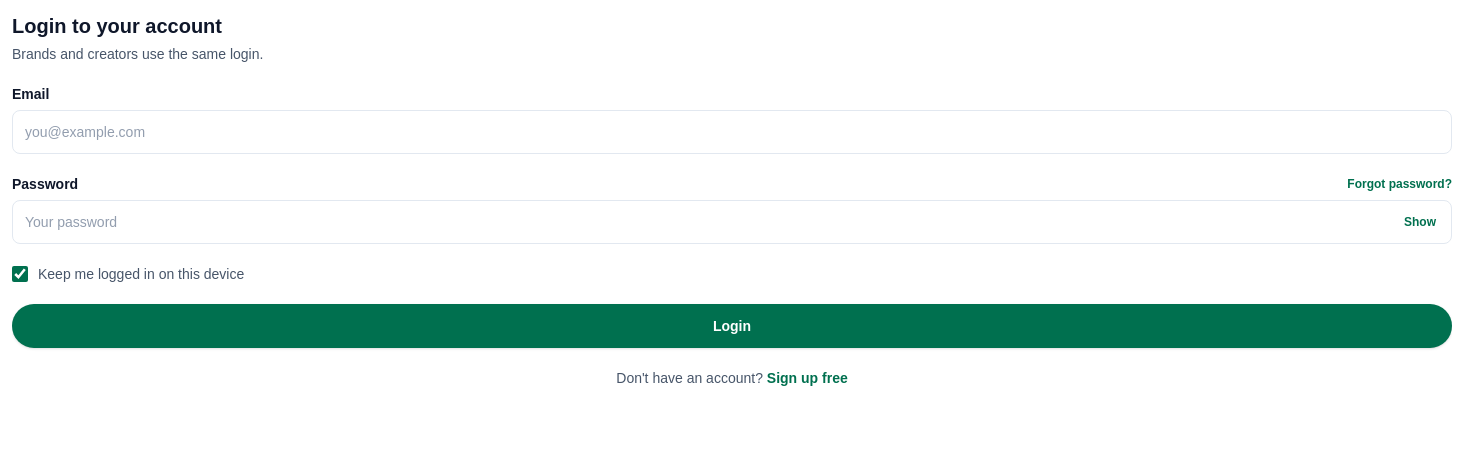
Test: SignInForm › shows a clear message for {"kind":"rate_limited","retryAfterSeconds":840}
The image size is (1464, 463).
Type "me@example.com" into the field labelled "Email" at (732, 132), box [12,110,1452,154]
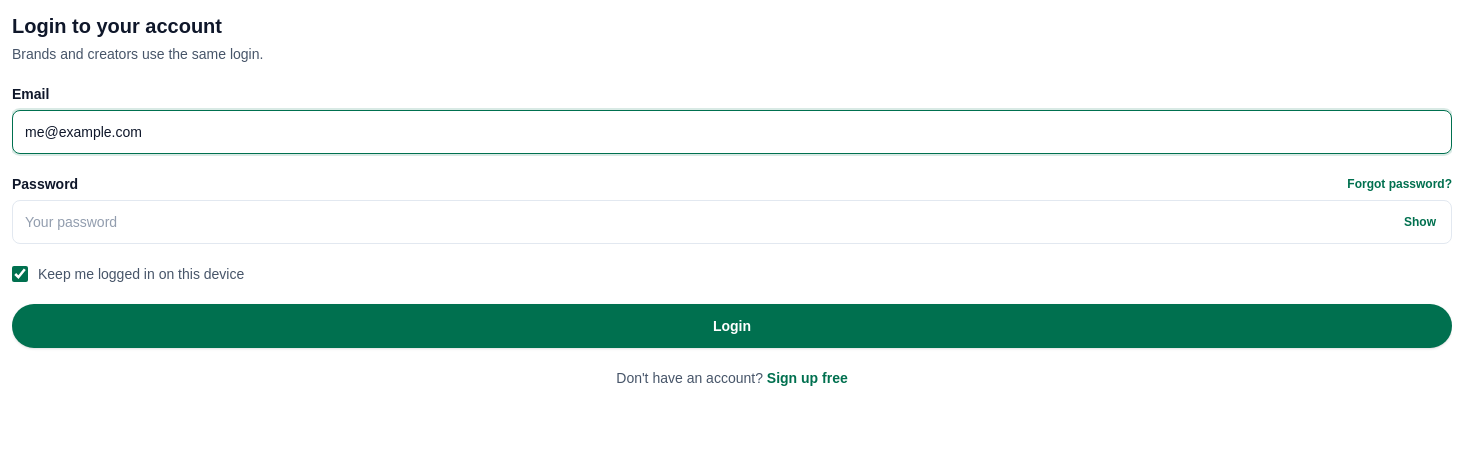
Type "Passw0rdtest" into the password field labelled "Password" at (732, 222), box [12,200,1452,244]
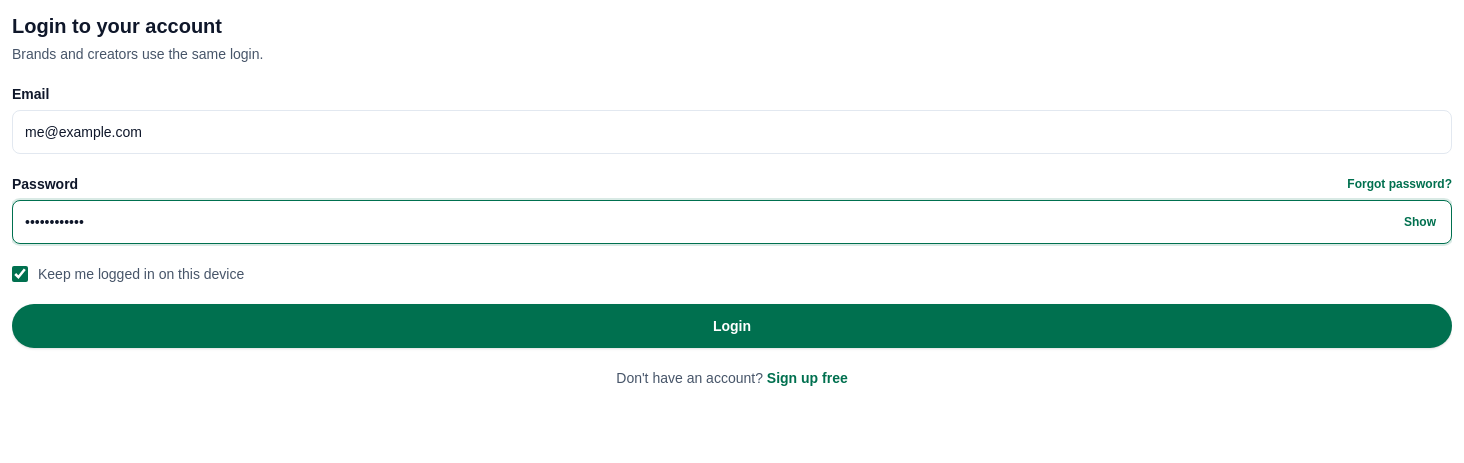
Click the button "Login" at (732, 326), box [12,304,1452,348]
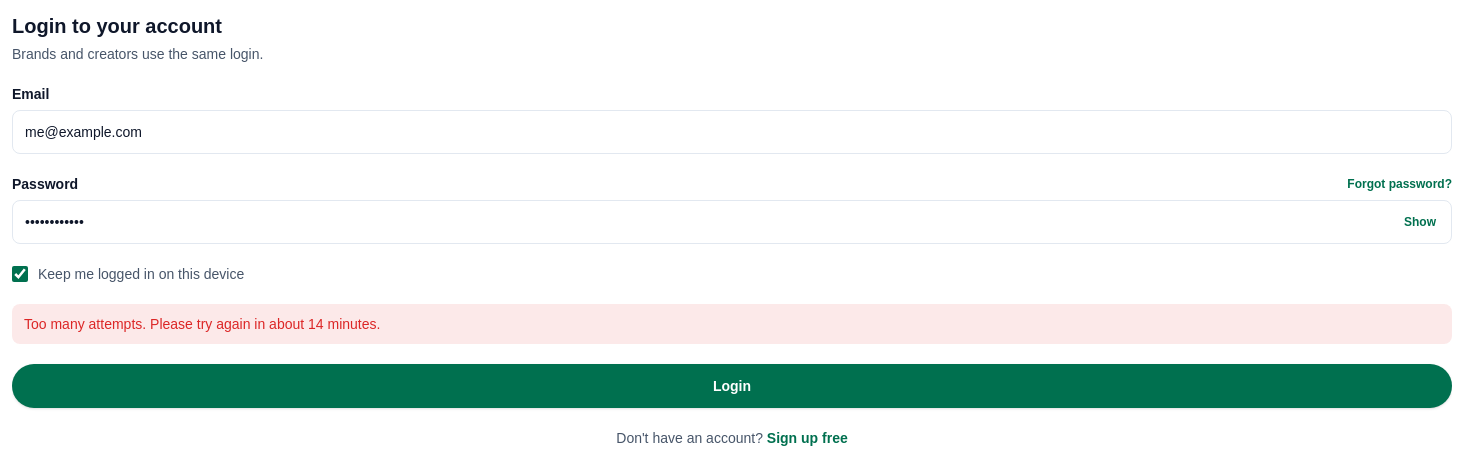
Expected: the message shows "Too many attempts. Please try again in about 14 minutes", [24,316,380,332]
